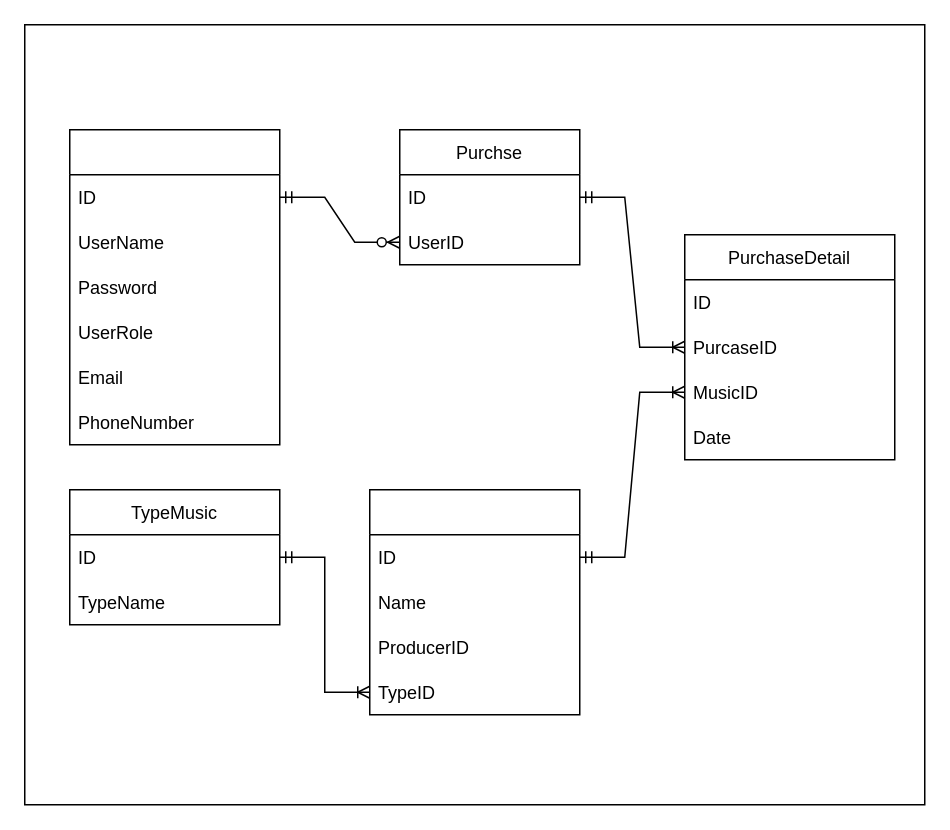
The diagram is 950 pixels wide and 830 high, and some of its shapes have lost their labels. The shapes that lost their labels are listed below. From the top down, each one's box as (x1, y1, x2, y2) in pixels, then its label:
(68, 128, 280, 445): Account
(368, 488, 580, 715): Music
